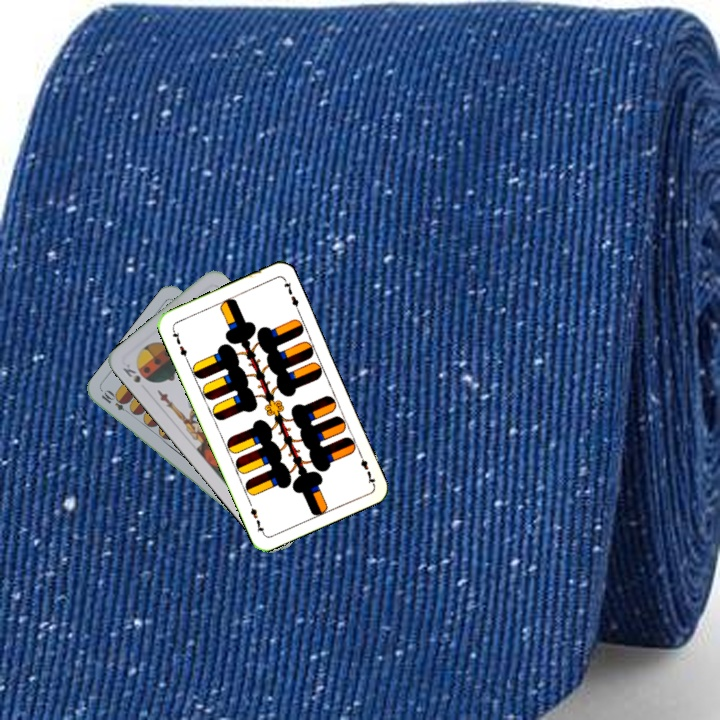E10: (97, 387, 134, 417)
E7: (355, 448, 378, 487), (168, 325, 191, 363)
SK: (119, 360, 143, 385)
